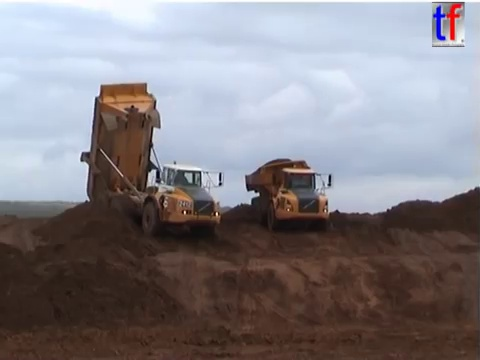truck: (78, 80, 226, 241), (243, 158, 335, 233)
